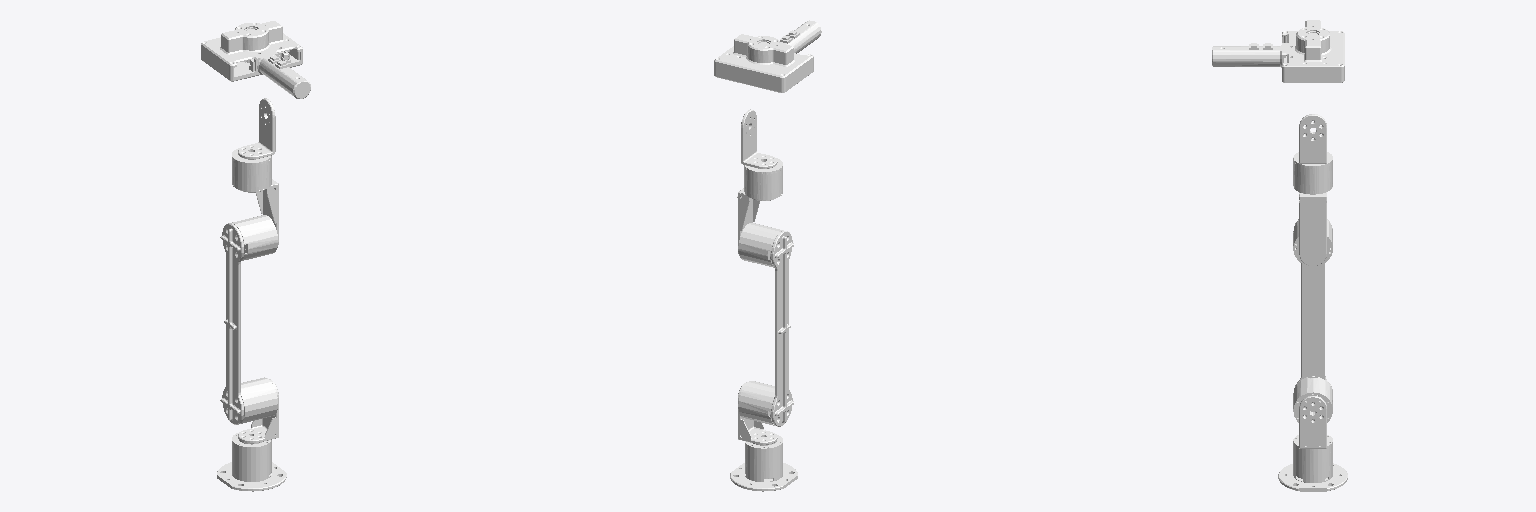
robot.urdf — dm_arm_v2_R:
<?xml version="1.0" encoding="utf-8"?>
<!-- This URDF was automatically created by SolidWorks to URDF Exporter! Originally created by [author] ([email redacted]) 
     Commit Version: 1.6.0-4-g7f85cfe  Build Version: 1.6.7995.38578
     For more information, please see http://wiki.ros.org/sw_urdf_exporter -->
<robot
  name="dm_arm_v2_R">
  <link
    name="world_R">
  </link>
  <joint name="base_joint_R" type="fixed">
  <parent link="world_R"/>
  <child link="base_link_R"/>
  <origin xyz="0 0 0" rpy="0 0 0"/> <!-- 绕 Y 轴旋转 -90°，侧装 -->
  </joint>
  <link
    name="base_link_R">
    <inertial>
      <origin
        xyz="-4.0721E-05 0.027295 4.0705E-05"
        rpy="0 0 0" />
      <mass
        value="0.458" />
      <inertia
        ixx="0.00010877"
        ixy="-1.336E-07"
        ixz="1.0688E-07"
        iyy="9.6342E-05"
        iyz="1.3354E-07"
        izz="0.00010533" />
    </inertial>
    <visual>
      <origin
        xyz="0 0 0"
        rpy="0 0 0" />
      <geometry>
        <mesh
          filename="package://dm_arm_v2_r/meshes/base_link.STL" />
      </geometry>
      <material
        name="">
        <color
          rgba="1 1 1 1" />
      </material>
    </visual>
    <collision>
      <origin
        xyz="0 0 0"
        rpy="0 0 0" />
      <geometry>
        <mesh
          filename="package://dm_arm_v2_r/meshes/base_link.STL" />
      </geometry>
    </collision>
  </link>
  <link
    name="link1_R">
    <inertial>
      <origin
        xyz="0.022488 -2.9766E-13 0.020137"
        rpy="0 0 0" />
      <mass
        value="0.066" />
      <inertia
        ixx="1.8229E-05"
        ixy="5.4306E-17"
        ixz="-4.6522E-06"
        iyy="1.9438E-05"
        iyz="6.0125E-17"
        izz="8.0563E-06" />
    </inertial>
    <visual>
      <origin
        xyz="0 0 0"
        rpy="0 0 0" />
      <geometry>
        <mesh
          filename="package://dm_arm_v2_r/meshes/link1.STL" />
      </geometry>
      <material
        name="">
        <color
          rgba="1 1 1 1" />
      </material>
    </visual>
    <collision>
      <origin
        xyz="0 0 0"
        rpy="0 0 0" />
      <geometry>
        <mesh
          filename="package://dm_arm_v2_r/meshes/link1.STL" />
      </geometry>
    </collision>
  </link>
  <joint
    name="joint1_R"
    type="revolute">
    <origin
      xyz="0 0 0.06625"
      rpy="0 0 0" />
    <parent
      link="base_link_R" />
    <child
      link="link1_R" />
    <axis
      xyz="0 0 1" />
    <limit
      lower="-2.967"
      upper="2.967"
      effort="0"
      velocity="0" />
  </joint>
  <link
    name="link2_R">
    <inertial>
      <origin
        xyz="-2.8959E-05 -0.12763 0.005453"
        rpy="0 0 0" />
      <mass
        value="0.924" />
      <inertia
        ixx="0.0051182"
        ixy="1.2408E-06"
        ixz="1.8886E-07"
        iyy="0.00018206"
        iyz="1.8896E-07"
        izz="0.0050618" />
    </inertial>
    <visual>
      <origin
        xyz="0 0 0"
        rpy="0 0 0" />
      <geometry>
        <mesh
          filename="package://dm_arm_v2_r/meshes/link2.STL" />
      </geometry>
      <material
        name="">
        <color
          rgba="1 1 1 1" />
      </material>
    </visual>
    <collision>
      <origin
        xyz="0 0 0"
        rpy="0 0 0" />
      <geometry>
        <mesh
          filename="package://dm_arm_v2_r/meshes/link2.STL" />
      </geometry>
    </collision>
  </link>
  <joint
    name="joint2_R"
    type="revolute">
    <origin
      xyz="0 0 0.0532"
      rpy="-1.5708 0 1.5708" />
    <parent
      link="link1_R" />
    <child
      link="link2_R" />
    <axis
      xyz="0 0 -1" />
    <limit
      lower="-1.57"
      upper="1.57"
      effort="0"
      velocity="0" />
  </joint>
  <link
    name="link3_R">
    <inertial>
      <origin
        xyz="-4.9758E-09 -0.096929 -0.0047145"
        rpy="0 0 0" />
      <mass
        value="0.385" />
      <inertia
        ixx="7.8869E-05"
        ixy="-1.8361E-11"
        ixz="2.4381E-11"
        iyy="5.2998E-05"
        iyz="7.4401E-06"
        izz="7.6953E-05" />
    </inertial>
    <visual>
      <origin
        xyz="0 0 0"
        rpy="0 0 0" />
      <geometry>
        <mesh
          filename="package://dm_arm_v2_r/meshes/link3.STL" />
      </geometry>
      <material
        name="">
        <color
          rgba="1 1 1 1" />
      </material>
    </visual>
    <collision>
      <origin
        xyz="0 0 0"
        rpy="0 0 0" />
      <geometry>
        <mesh
          filename="package://dm_arm_v2_r/meshes/link3.STL" />
      </geometry>
    </collision>
  </link>
  <joint
    name="joint3_R"
    type="revolute">
    <origin
      xyz="0 -0.2552 0"
      rpy="0 0 0" />
    <parent
      link="link2_R" />
    <child
      link="link3_R" />
    <axis
      xyz="0 0 1" />
    <limit
      lower="-1.57"
      upper="1.57"
      effort="0"
      velocity="0" />
  </joint>
  <link
    name="link4_R">
    <inertial>
      <origin
        xyz="-1.4549E-12 -0.018351 0.020683"
        rpy="0 0 0" />
      <mass
        value="0.056" />
      <inertia
        ixx="1.5419E-05"
        ixy="-2.9866E-16"
        ixz="-2.6865E-16"
        iyy="1.4928E-05"
        iyz="3.4555E-06"
        izz="5.8052E-06" />
    </inertial>
    <visual>
      <origin
        xyz="0 0 0"
        rpy="0 0 0" />
      <geometry>
        <mesh
          filename="package://dm_arm_v2_r/meshes/link4.STL" />
      </geometry>
      <material
        name="">
        <color
          rgba="1 1 1 1" />
      </material>
    </visual>
    <collision>
      <origin
        xyz="0 0 0"
        rpy="0 0 0" />
      <geometry>
        <mesh
          filename="package://dm_arm_v2_r/meshes/link4.STL" />
      </geometry>
    </collision>
  </link>
  <joint
    name="joint4_R"
    type="revolute">
    <origin
      xyz="0 -0.1372 0"
      rpy="1.5708 0 0" />
    <parent
      link="link3_R" />
    <child
      link="link4_R" />
    <axis
      xyz="0 0 -1" />
    <limit
      lower="-2.967"
      upper="2.967"
      effort="0"
      velocity="0" />
  </joint>
  <link
    name="link5_R">
    <inertial>
      <origin
        xyz="-2.1939E-09 -0.030604 0.0013068"
        rpy="0 0 0" />
      <mass
        value="0.652" />
      <inertia
        ixx="9.4517E-05"
        ixy="8.644E-12"
        ixz="9.584E-12"
        iyy="9.6472E-05"
        iyz="2.6532E-06"
        izz="9.3688E-05" />
    </inertial>
    <visual>
      <origin
        xyz="0 0 0"
        rpy="0 0 0" />
      <geometry>
        <mesh
          filename="package://dm_arm_v2_r/meshes/link5.STL" />
      </geometry>
      <material
        name="">
        <color
          rgba="1 1 1 1" />
      </material>
    </visual>
    <collision>
      <origin
        xyz="0 0 0"
        rpy="0 0 0" />
      <geometry>
        <mesh
          filename="package://dm_arm_v2_r/meshes/link5.STL" />
      </geometry>
    </collision>
  </link>
  <joint
    name="joint5_R"
    type="revolute">
    <origin
      xyz="0 0 0.0496"
      rpy="-1.5708 0 0" />
    <parent
      link="link4_R" />
    <child
      link="link5_R" />
    <axis
      xyz="0 0 -1" />
    <limit
      lower="-1.57"
      upper="1.57"
      effort="0"
      velocity="0" />
  </joint>
  <link
    name="link6_R">
    <inertial>
      <origin
        xyz="-0.012978 -0.00042483 0.021604"
        rpy="0 0 0" />
      <!-- <mass
        value="0.585" /> -->
      <mass
        value="0.00" />
      <inertia
        ixx="0.00020761"
        ixy="-5.7794E-06"
        ixz="-8.5177E-06"
        iyy="0.0004167"
        iyz="4.0184E-07"
        izz="0.00053787" />
    </inertial>
    <visual>
      <origin
        xyz="0 0 0"
        rpy="0 0 0" />
      <geometry>
        <mesh
          filename="package://dm_arm_v2_r/meshes/link6.STL" />
      </geometry>
      <material
        name="">
        <color
          rgba="1 1 1 1" />
      </material>
    </visual>
    <collision>
      <origin
        xyz="0 0 0"
        rpy="0 0 0" />
      <geometry>
        <mesh
          filename="package://dm_arm_v2_r/meshes/link6.STL" />
      </geometry>
    </collision>
  </link>
  <joint
    name="joint6_R"
    type="revolute">
    <origin
      xyz="0 -0.086 0"
      rpy="1.5708 0 0" />
    <parent
      link="link5_R" />
    <child
      link="link6_R" />
    <axis
      xyz="0 0 -1" />
    <limit
      lower="-2.967"
      upper="2.967"
      effort="0"
      velocity="0" />
  </joint>
  <!-- <link
    name="endlink1_R">
    <inertial>
      <origin
        xyz="0.02673 -0.015825 -0.003082"
        rpy="0 0 0" />
      <mass
        value="0.000" />
      <inertia
        ixx="6.6291E-07"
        ixy="4.4759E-07"
        ixz="-1.125E-08"
        iyy="7.2907E-07"
        iyz="8.2847E-09"
        izz="1.1012E-06" />
    </inertial>
    <visual>
      <origin
        xyz="0 0 0"
        rpy="0 0 0" />
      <geometry>
        <mesh
          filename="package://dm_arm_v2_r/meshes/endlink1.STL" />
      </geometry>
      <material
        name="">
        <color
          rgba="1 1 1 1" />
      </material>
    </visual>
    <collision>
      <origin
        xyz="0 0 0"
        rpy="0 0 0" />
      <geometry>
        <mesh
          filename="package://dm_arm_v2_r/meshes/endlink1.STL" />
      </geometry>
    </collision>
  </link>
  <joint
    name="joint7_R"
    type="prismatic">
    <origin
      xyz="-0.02405 -0.044 0.024"
      rpy="-1.5708 0 3.1416" />
    <parent
      link="link6_R" />
    <child
      link="endlink1_R" />
    <axis
      xyz="0 0 -1" />
    <limit
      lower="0"
      upper="0.02"
      effort="0"
      velocity="0" />
  </joint>
  <link
    name="endlink2_R">
    <inertial>
      <origin
        xyz="0.065425 -0.010042 0.0031713"
        rpy="0 0 0" />
      <mass
        value="0.00" />
      <inertia
        ixx="1.0349E-06"
        ixy="1.9324E-06"
        ixz="5.704E-08"
        iyy="6.2013E-06"
        iyz="-9.7237E-09"
        izz="6.922E-06" />
    </inertial>
    <visual>
      <origin
        xyz="0 0 0"
        rpy="0 0 0" />
      <geometry>
        <mesh
          filename="package://dm_arm_v2_r/meshes/endlink2.STL" />
      </geometry>
      <material
        name="">
        <color
          rgba="1 1 1 1" />
      </material>
    </visual>
    <collision>
      <origin
        xyz="0 0 0"
        rpy="0 0 0" />
      <geometry>
        <mesh
          filename="package://dm_arm_v2_r/meshes/endlink2.STL" />
      </geometry>
    </collision>
  </link>
  <joint
    name="joint8_R"
    type="prismatic">
    <origin
      xyz="0.0378 0.044 0.024"
      rpy="-1.5708 0 -3.1416" />
    <parent
      link="link6_R" />
    <child
      link="endlink2_R" />
    <axis
      xyz="0 0 1" />
    <limit
      lower="0"
      upper="0"
      effort="0"
      velocity="0" />
    <mimic
      joint="joint7_R"
      multiplier="1"
      offset="0" />
  </joint> -->
</robot>

--- Render facts (derived) ---
The picture shows the robot from 3 angles, left to right: view 1: azimuth 30°, elevation 25°; view 2: azimuth 150°, elevation 25°; view 3: azimuth 270°, elevation 25°; orthographic projection.
Model dm_arm_v2_R with 8 links and 7 joints (6 revolute, 1 fixed), rooted at world_R, posed every joint at zero.
Links seen in each view (by area): view 1: link2_R, link6_R, base_link_R, link3_R, link4_R, link1_R; view 2: link2_R, link6_R, base_link_R, link3_R, link4_R, link1_R; view 3: link6_R, link2_R, link3_R, base_link_R, link1_R, link4_R.
Link boxes in pixels (left/top/right/bottom): link2_R: left=220, top=215, right=277, bottom=424; link6_R: left=201, top=21, right=310, bottom=98; base_link_R: left=217, top=432, right=286, bottom=491; link3_R: left=232, top=148, right=278, bottom=244; link4_R: left=238, top=98, right=275, bottom=159; link1_R: left=238, top=379, right=278, bottom=443; link2_R: left=738, top=223, right=793, bottom=426; link6_R: left=714, top=20, right=821, bottom=92; base_link_R: left=730, top=434, right=797, bottom=491; link3_R: left=737, top=158, right=782, bottom=253; link4_R: left=741, top=109, right=777, bottom=168; link1_R: left=738, top=382, right=777, bottom=444; link6_R: left=1212, top=20, right=1344, bottom=82; link2_R: left=1293, top=219, right=1332, bottom=422; link3_R: left=1293, top=152, right=1332, bottom=265; base_link_R: left=1278, top=435, right=1347, bottom=491; link1_R: left=1299, top=396, right=1326, bottom=448; link4_R: left=1299, top=114, right=1326, bottom=163.
Bounding box of the posed robot: 0.12 × 0.195 × 0.7024 m (x, y, z).
Meshes: 7 distinct files referenced, 6 mesh visuals loaded (6 binary STL); not drawn: 1 (reference not matched to a file when rendering).
